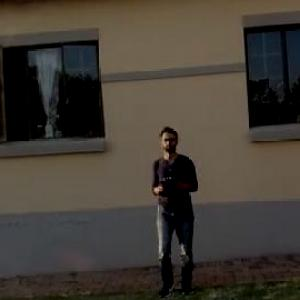follow: (146, 114, 204, 296)
